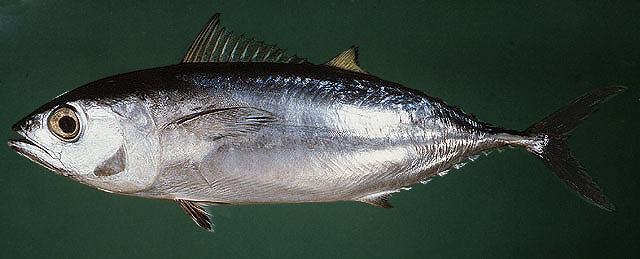fish: (7, 12, 629, 235)
